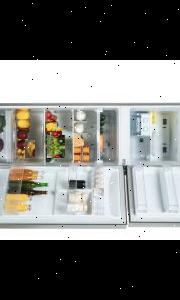Huevos: (92, 188, 102, 196), (92, 168, 102, 174), (92, 174, 102, 178)
Leche: (72, 121, 86, 134), (73, 112, 85, 121)
Lechuga/Endivia: (46, 135, 64, 158)
Limón: (14, 110, 30, 122), (15, 120, 30, 130)
Manzana: (15, 130, 28, 140), (15, 140, 27, 150)
Plátano: (24, 140, 34, 158)
Yogur: (80, 153, 88, 162), (72, 153, 80, 162), (80, 146, 88, 154), (72, 146, 80, 154)
